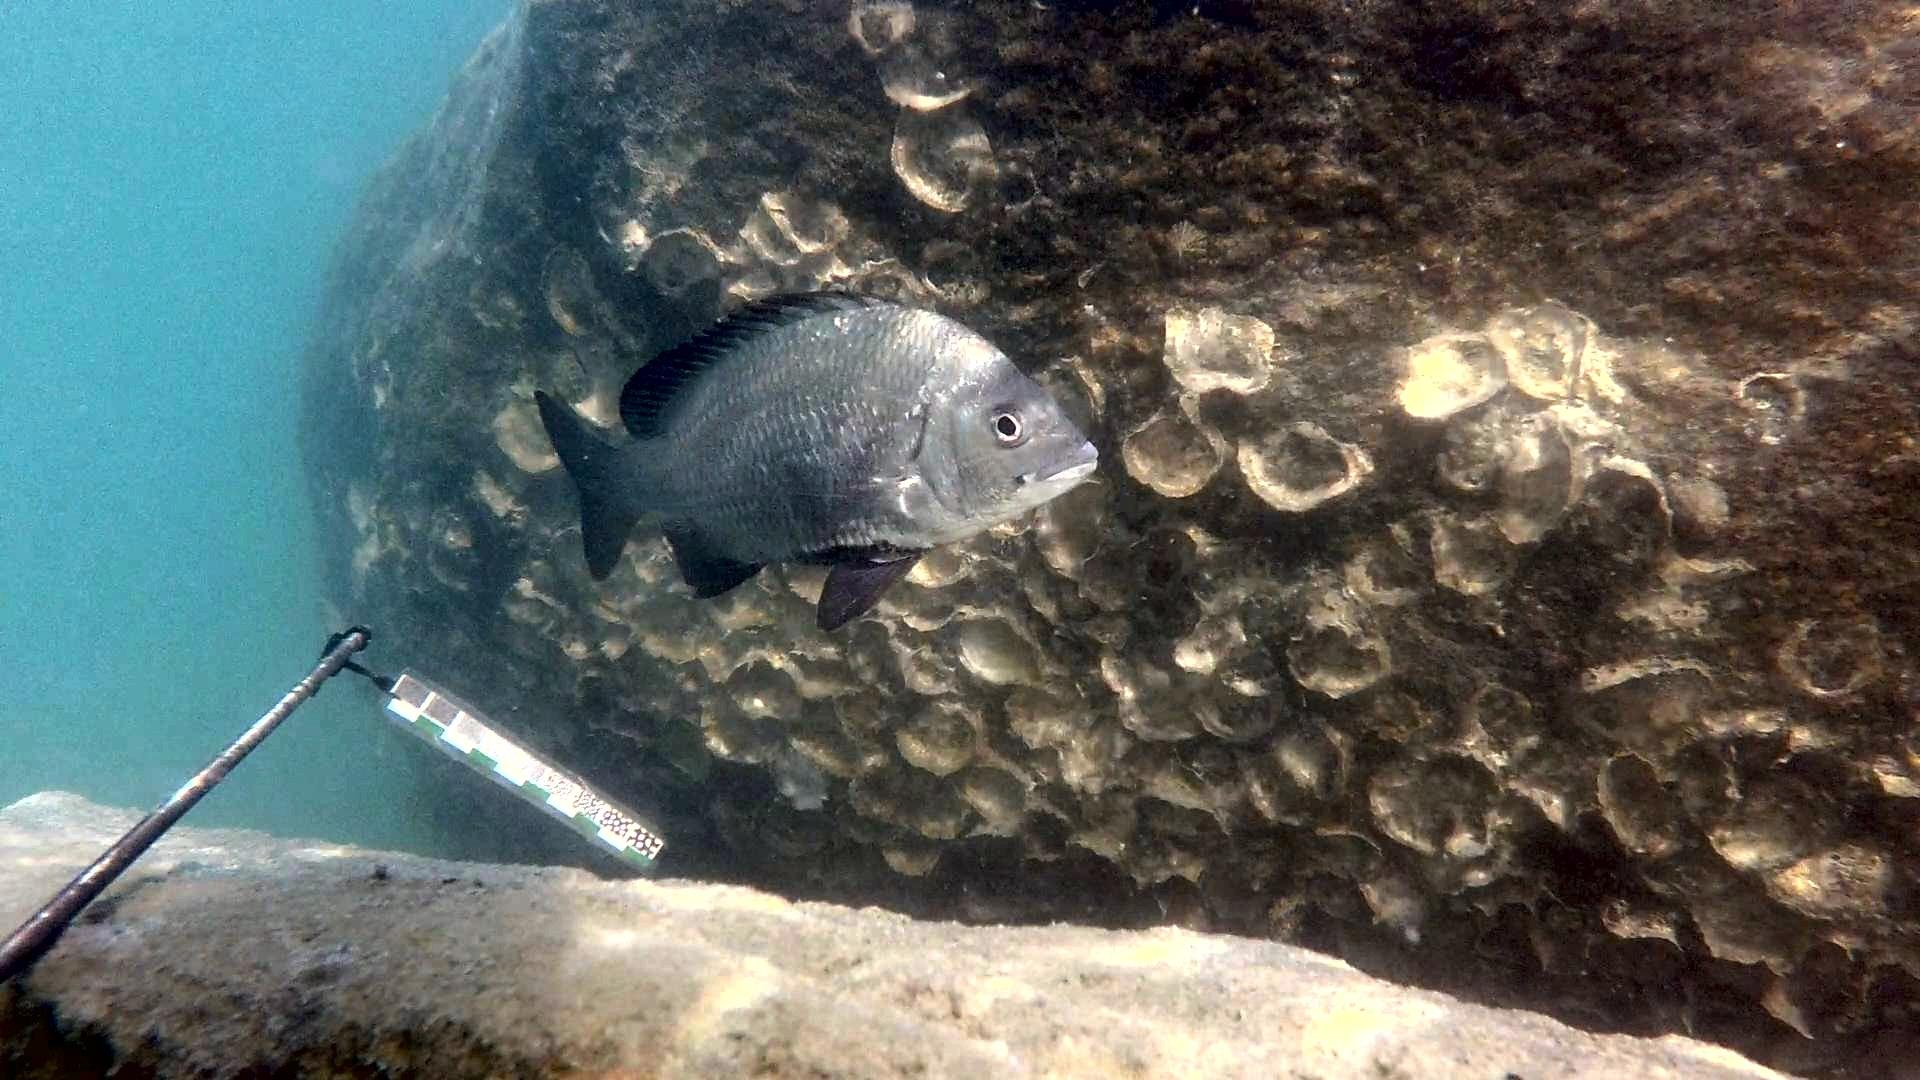acanthopagrus palmaris: (531, 280, 1107, 639)
